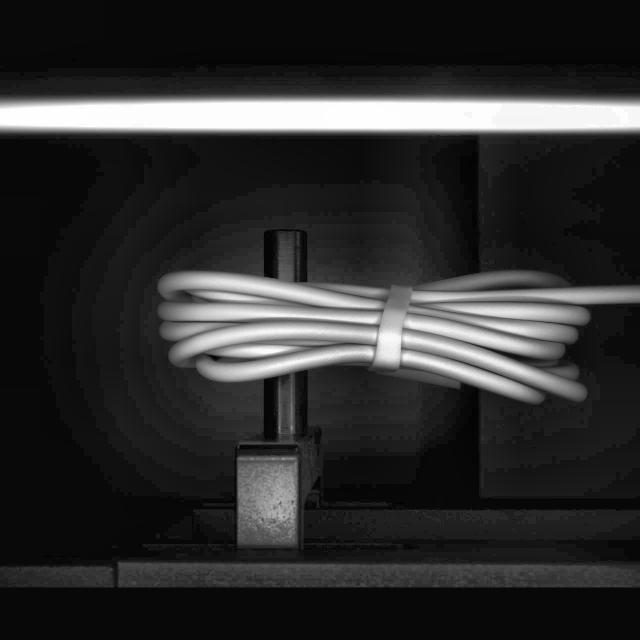Cable: (147, 263, 640, 411)
